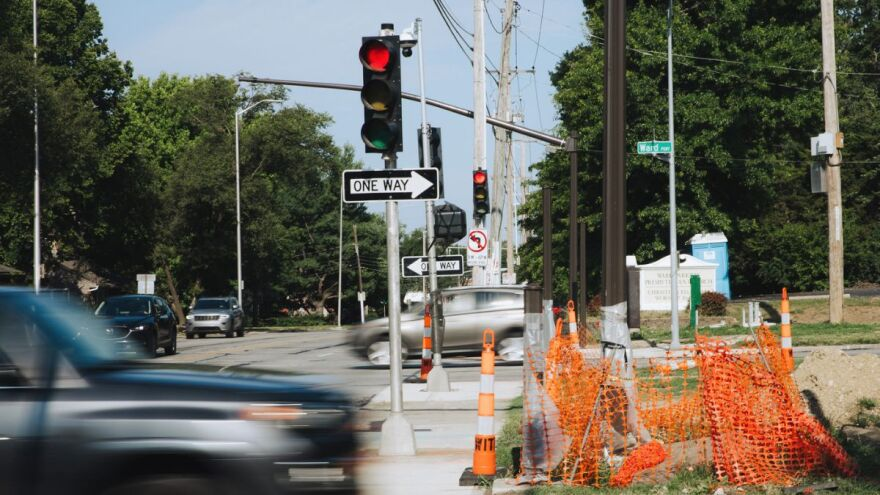red: (360, 33, 401, 155), (472, 168, 489, 217)
